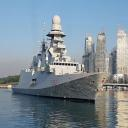Fragata: (12, 9, 113, 103)
